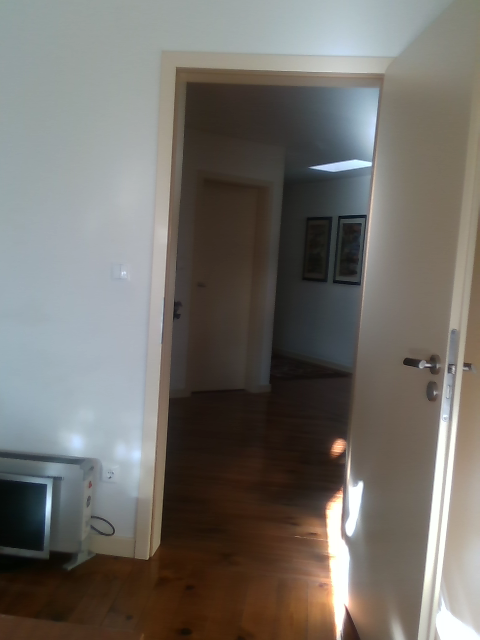open: (135, 0, 479, 639)
